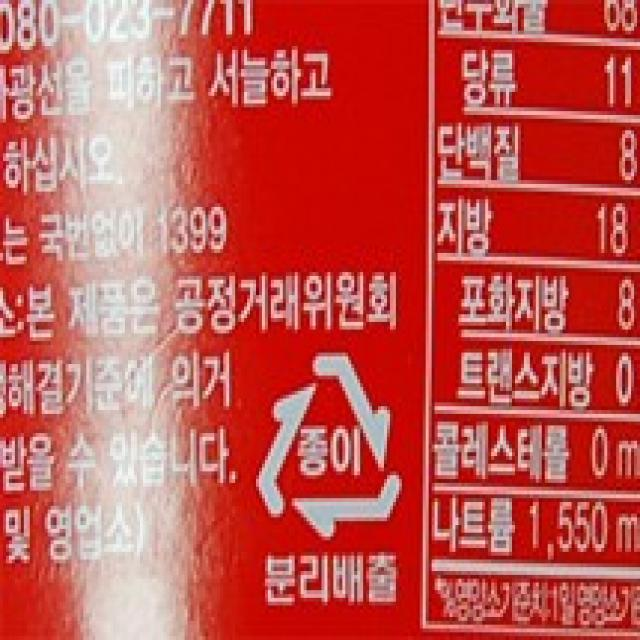Paper: (249, 342, 407, 547)
